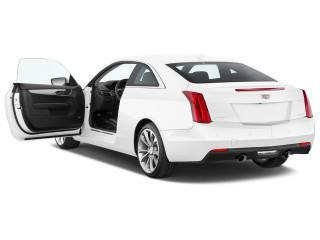cadillac: (256, 91, 275, 102)
